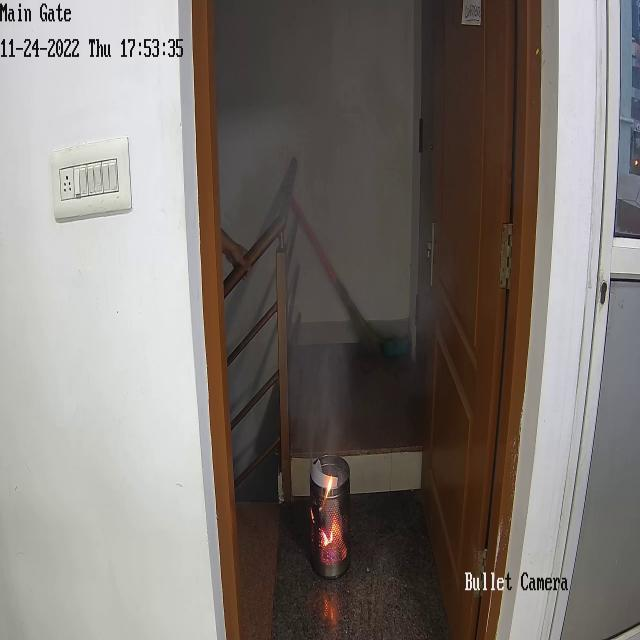fire: (312, 480, 350, 581)
smoke: (330, 139, 404, 252), (242, 24, 334, 110), (301, 54, 384, 148), (296, 342, 356, 462), (302, 278, 329, 334)
